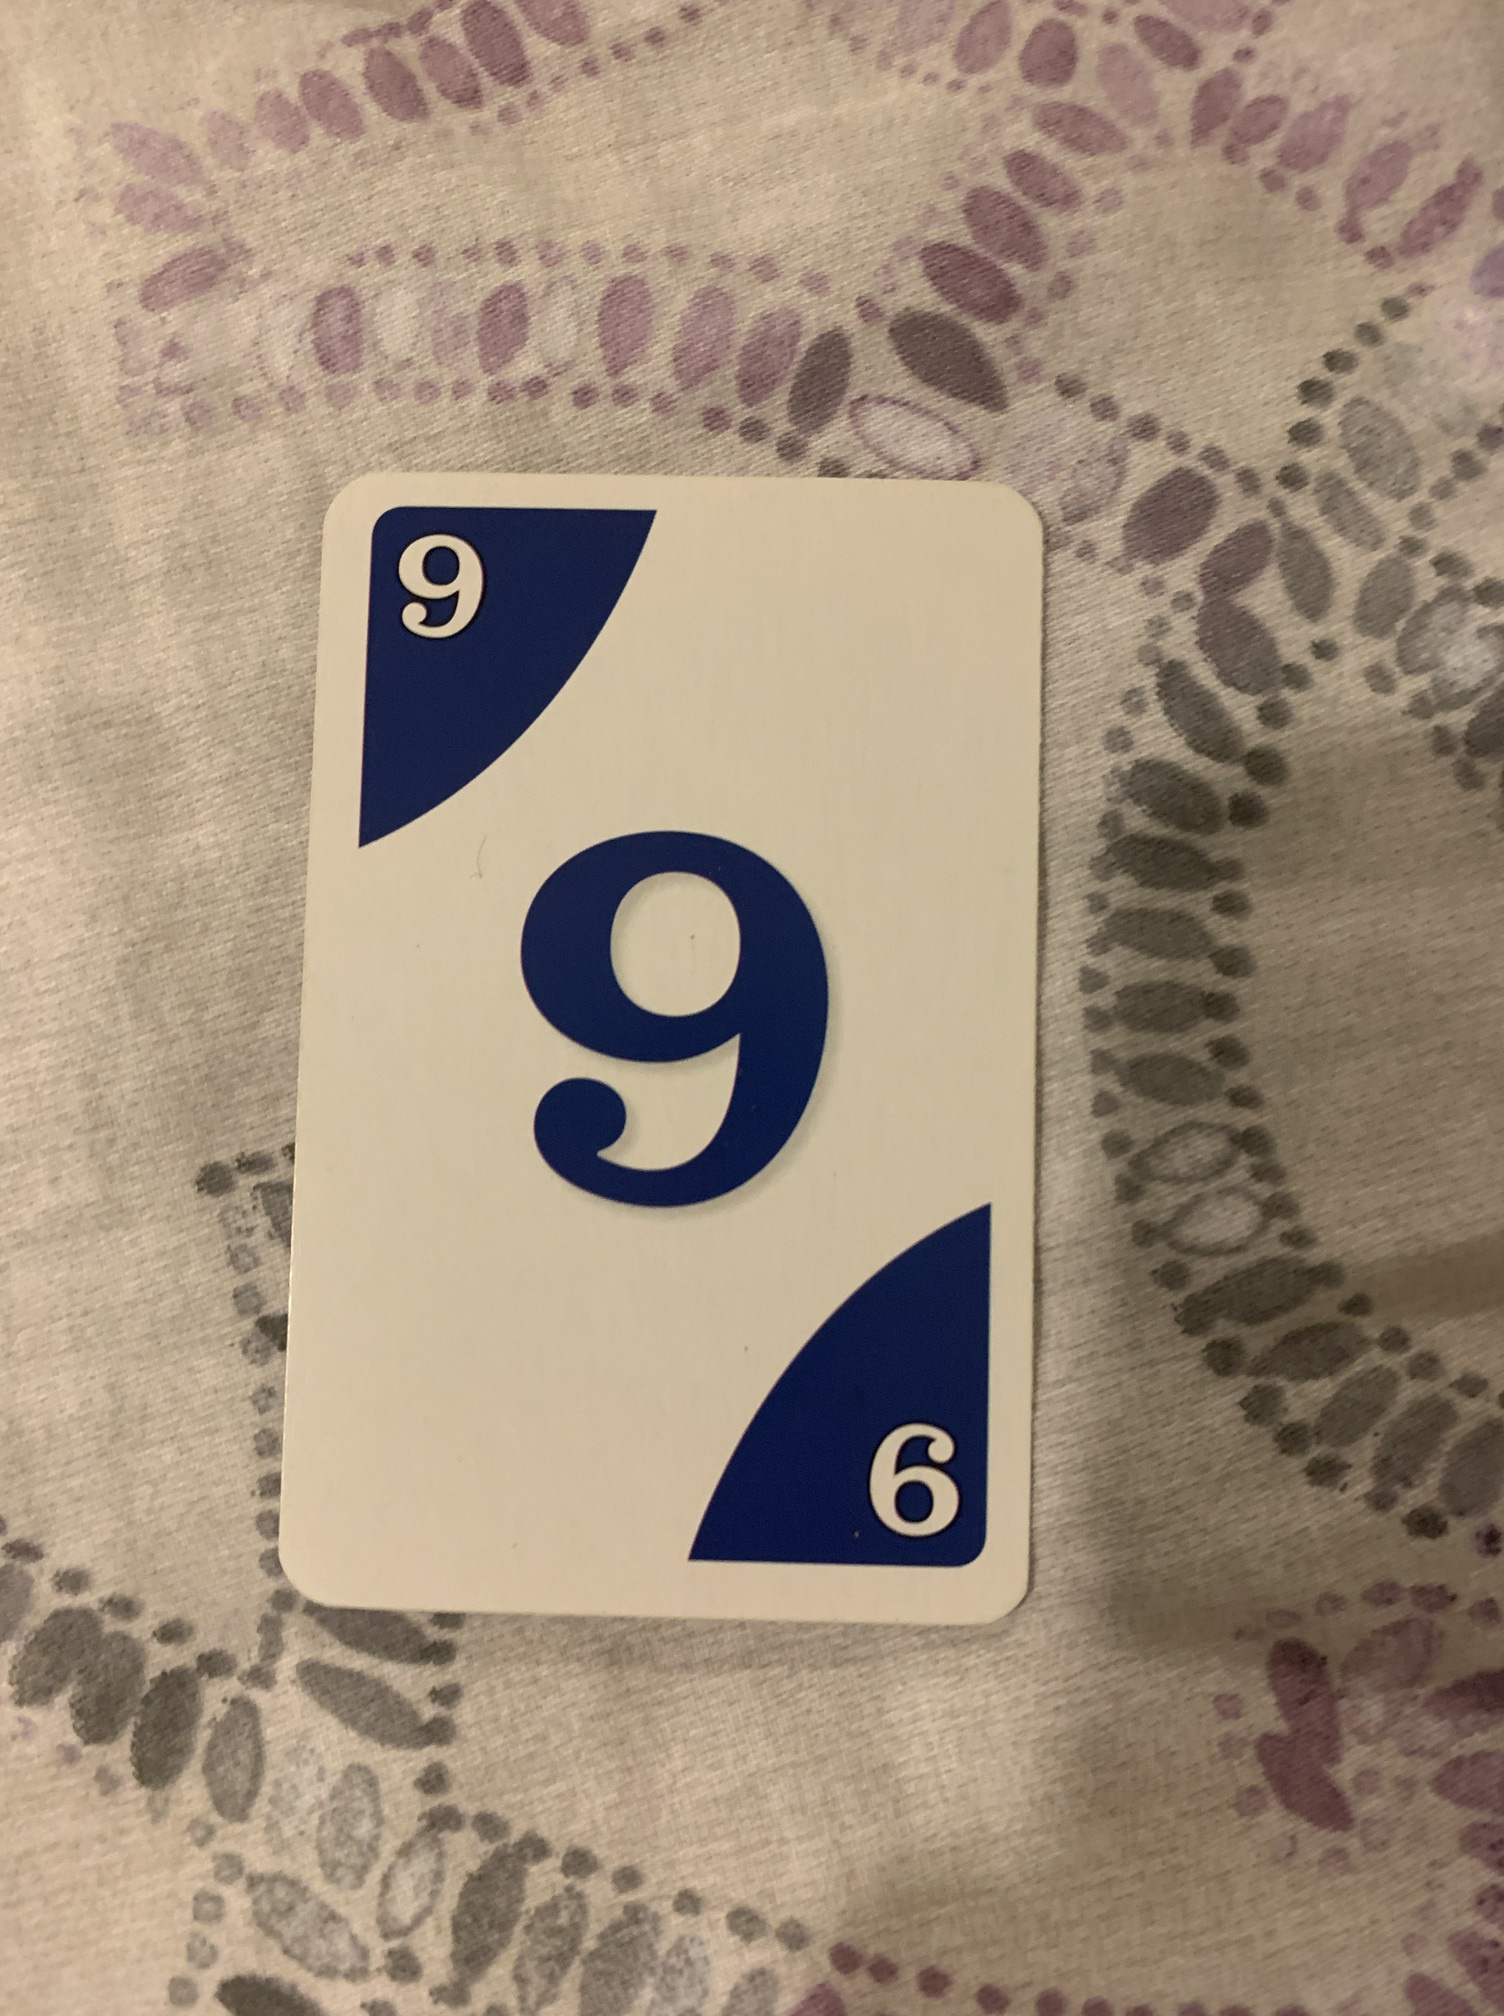nine: (269, 466, 1051, 1635)
